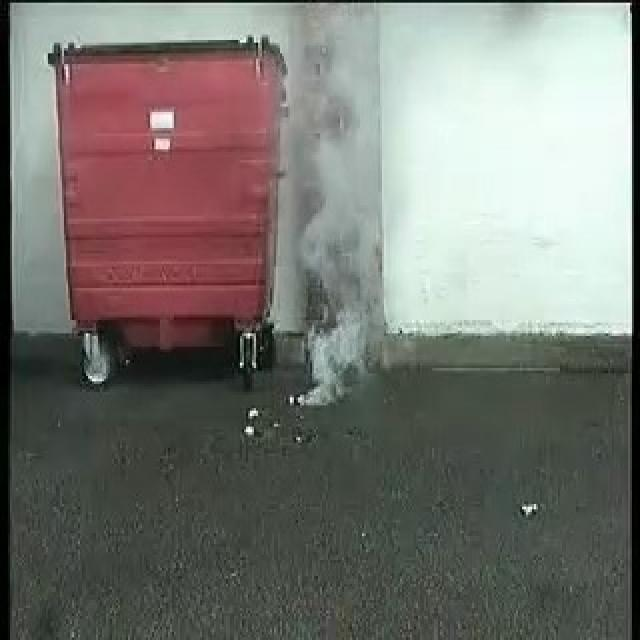smoke: (282, 125, 388, 405)
